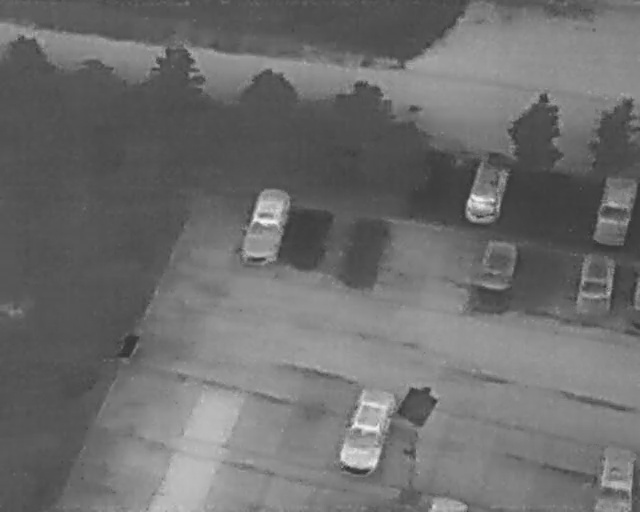Car: (334, 381, 402, 479), (237, 184, 291, 267), (462, 145, 514, 227), (469, 231, 522, 298), (591, 173, 637, 247), (571, 248, 620, 317), (595, 445, 637, 510), (427, 491, 471, 510)
